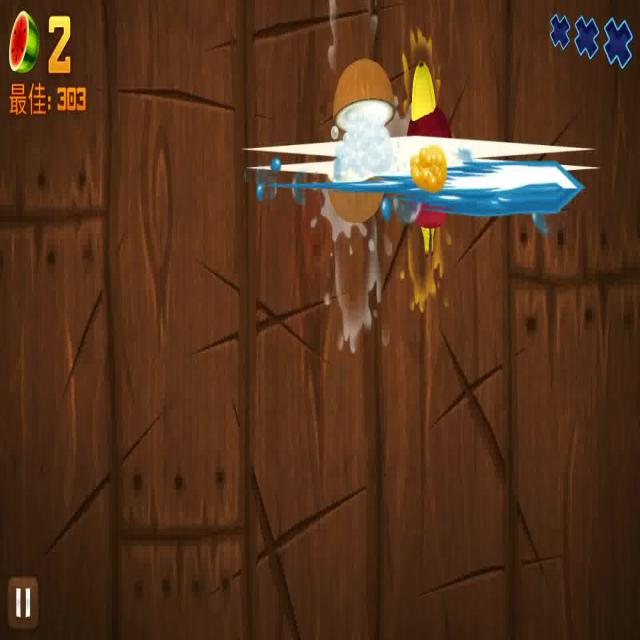fruit: (310, 55, 454, 241)
